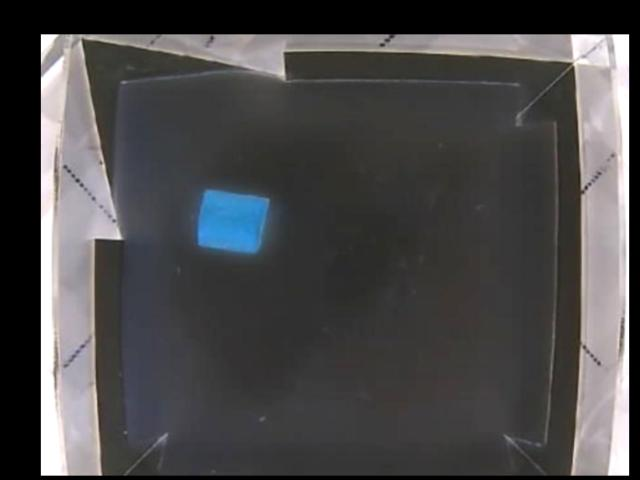Carrot: (198, 186, 272, 249)
